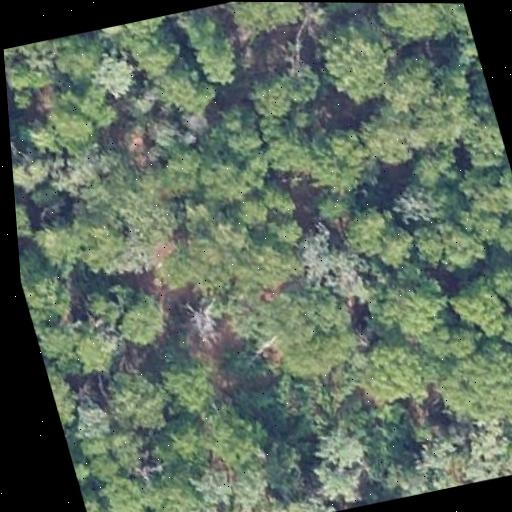tree-top: (246, 269, 369, 383), (177, 93, 281, 209), (389, 45, 485, 156), (280, 215, 385, 314), (307, 12, 409, 112), (26, 197, 142, 276), (351, 324, 446, 416), (88, 269, 189, 355), (440, 255, 512, 372), (31, 77, 131, 161), (428, 336, 512, 434), (362, 259, 456, 345), (35, 308, 133, 388), (229, 51, 329, 127), (331, 196, 423, 277), (167, 2, 249, 92), (96, 357, 184, 440), (346, 91, 426, 174), (451, 156, 512, 264), (359, 3, 474, 57), (152, 343, 226, 424), (296, 124, 371, 198), (422, 208, 496, 276), (55, 381, 123, 448), (18, 245, 81, 315), (204, 404, 272, 468), (81, 41, 148, 105), (307, 418, 379, 476), (302, 452, 371, 512), (223, 2, 312, 41), (94, 469, 155, 512), (498, 356, 512, 471), (14, 187, 41, 234), (3, 46, 25, 90)
